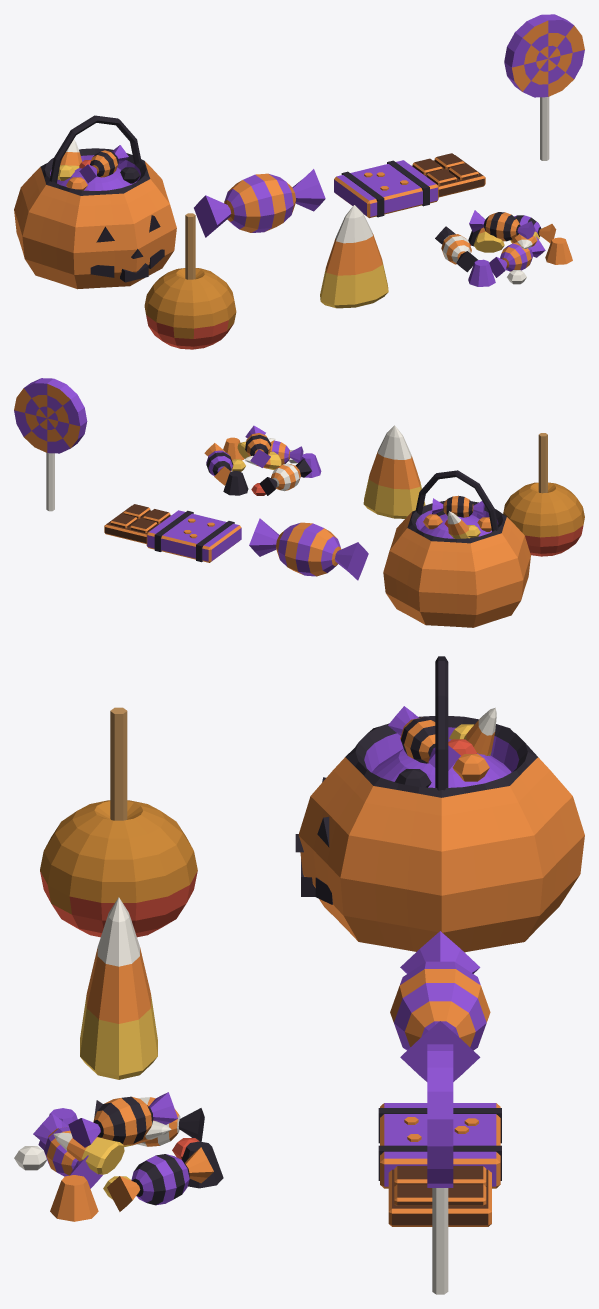
File: halloween-treat-pickups.glb
3 views of the same model, one above another, from view 1: azimuth 30°, elevation 25°; view 2: azimuth 150°, elevation 25°; view 3: azimuth 270°, elevation 25° (orthographic). The views are drawn at different scales.
Parts seen in each view (by area): view 1: Pumpkin_Bucket, Caramel_Apple, Candy_Pile, Chocolate_Bar, Swirl_Lollipop, Wrapped_Candy, Candy_Corn; view 2: Pumpkin_Bucket, Chocolate_Bar, Caramel_Apple, Swirl_Lollipop, Candy_Pile, Wrapped_Candy, Candy_Corn; view 3: Pumpkin_Bucket, Caramel_Apple, Candy_Pile, Chocolate_Bar, Candy_Corn, Wrapped_Candy, Swirl_Lollipop.
Part boxes in pixels (bbox=[...]): Pumpkin_Bucket: bbox=[14, 115, 176, 289]; Caramel_Apple: bbox=[144, 213, 236, 349]; Candy_Pile: bbox=[435, 210, 572, 286]; Chocolate_Bar: bbox=[334, 153, 485, 218]; Swirl_Lollipop: bbox=[504, 14, 584, 160]; Wrapped_Candy: bbox=[194, 169, 325, 237]; Candy_Corn: bbox=[320, 205, 388, 308]; Pumpkin_Bucket: bbox=[383, 470, 530, 627]; Chocolate_Bar: bbox=[104, 504, 241, 562]; Caramel_Apple: bbox=[503, 433, 584, 556]; Swirl_Lollipop: bbox=[14, 378, 87, 511]; Candy_Pile: bbox=[204, 425, 321, 495]; Wrapped_Candy: bbox=[249, 518, 368, 580]; Candy_Corn: bbox=[363, 425, 425, 518]; Pumpkin_Bucket: bbox=[295, 656, 584, 952]; Caramel_Apple: bbox=[40, 707, 197, 937]; Candy_Pile: bbox=[14, 1092, 223, 1221]; Chocolate_Bar: bbox=[378, 1103, 501, 1226]; Candy_Corn: bbox=[80, 897, 157, 1079]; Wrapped_Candy: bbox=[390, 931, 490, 1081]; Swirl_Lollipop: bbox=[427, 1044, 453, 1294].
Bounding box in the file's own units: 7.63 × 1.99 × 3.97.
